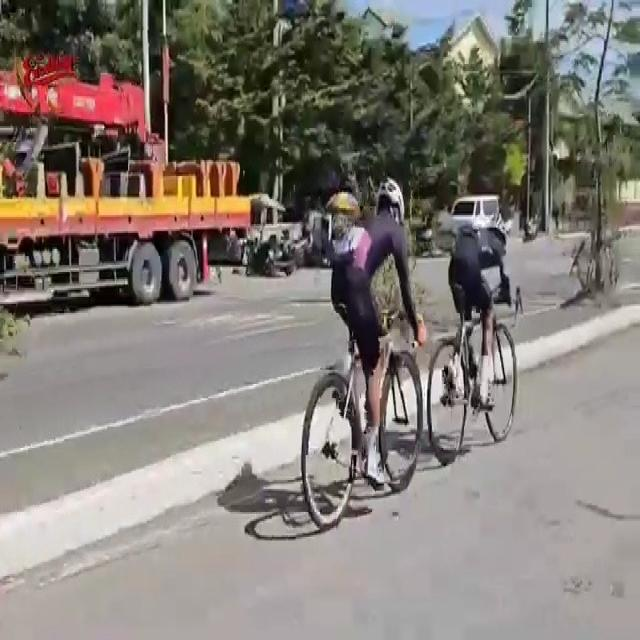bike: (301, 176, 428, 528), (430, 215, 520, 466)
car: (448, 192, 502, 228)
